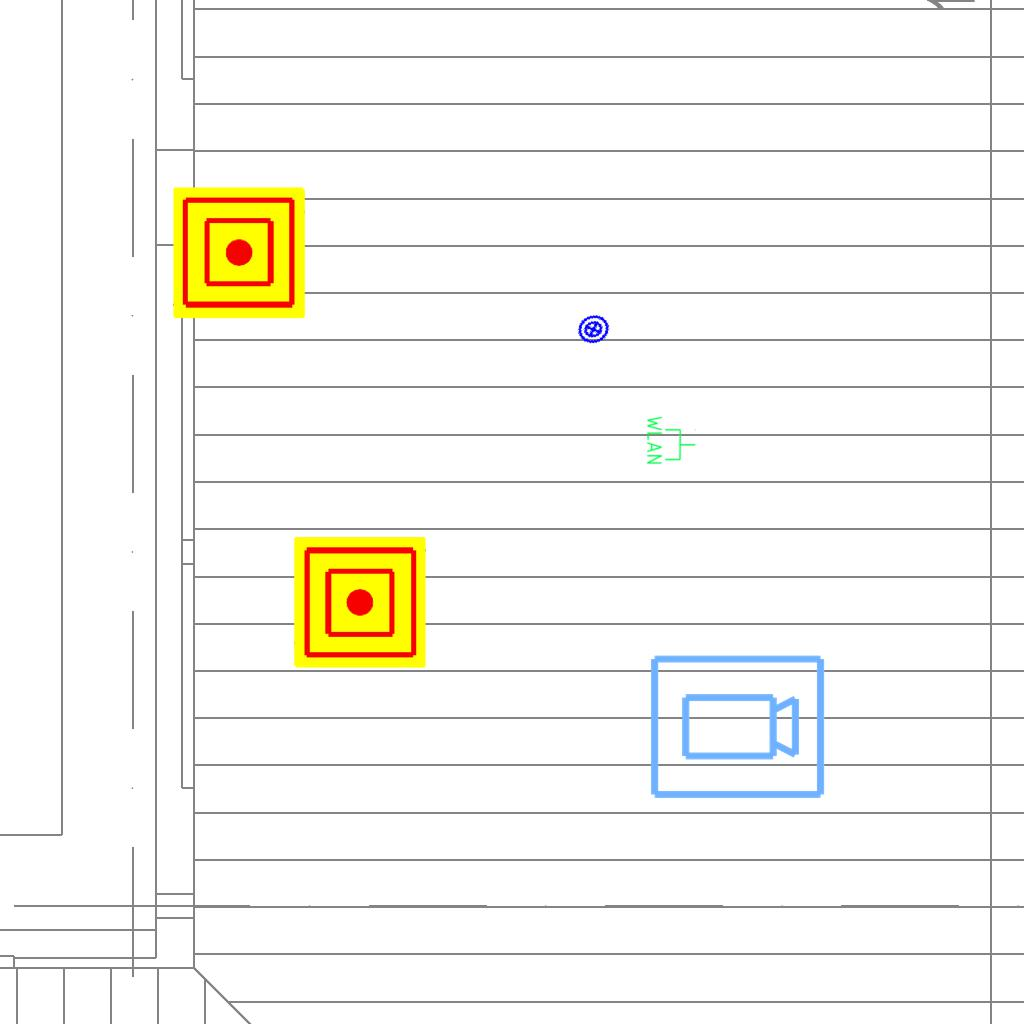KFO_Kamera_mit_Festobjektiv: (646, 651, 828, 805)
NAM-Nichtautomatischer_Melder: (173, 187, 305, 319), (294, 536, 426, 668)
Taster_beleuchtet: (572, 308, 615, 351)
WLAN: (645, 414, 697, 466)
